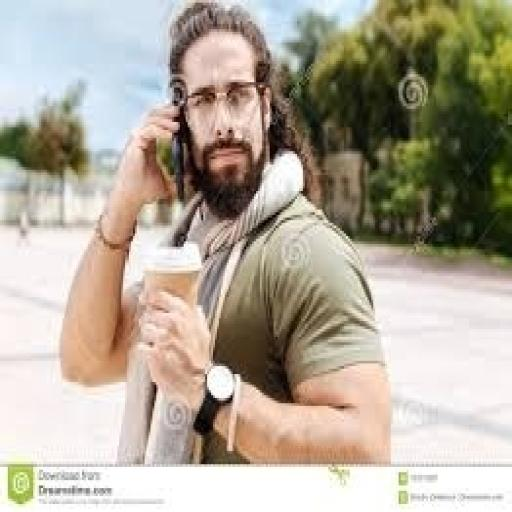calling: (56, 0, 392, 464)
